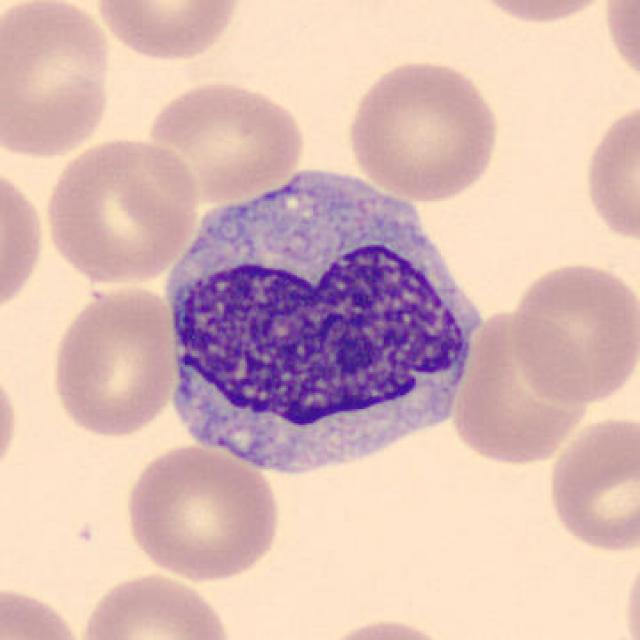Monocyte: (155, 150, 489, 494)
RBC: (39, 134, 201, 287), (343, 53, 505, 204), (121, 439, 284, 584), (46, 280, 182, 441), (142, 76, 308, 204), (505, 258, 638, 408), (0, 0, 117, 162), (542, 411, 638, 555), (76, 569, 236, 640), (89, 0, 247, 65), (578, 95, 640, 249), (0, 157, 48, 323), (0, 582, 87, 640), (462, 0, 620, 28), (312, 613, 460, 640), (599, 0, 640, 92), (0, 358, 23, 487), (620, 543, 640, 640)
